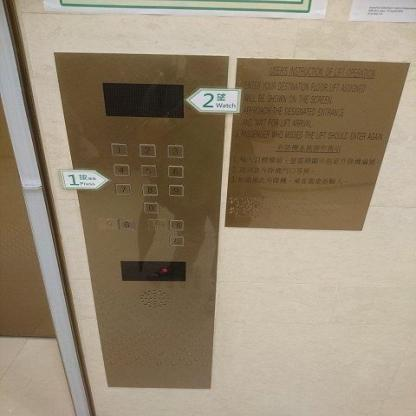0: (140, 200, 160, 215)
1: (108, 140, 129, 158)
2: (135, 142, 157, 159)
3: (163, 142, 185, 160)
4: (109, 161, 131, 179)
5: (137, 162, 159, 179)
6: (165, 163, 186, 179)
7: (112, 181, 133, 197)
8: (138, 182, 160, 197)
9: (164, 183, 186, 197)
CH: (166, 234, 186, 248)
G: (97, 216, 120, 231), (116, 217, 136, 231)
LG: (145, 218, 168, 230), (166, 218, 186, 231)
led: (98, 79, 188, 120), (117, 258, 190, 283)
